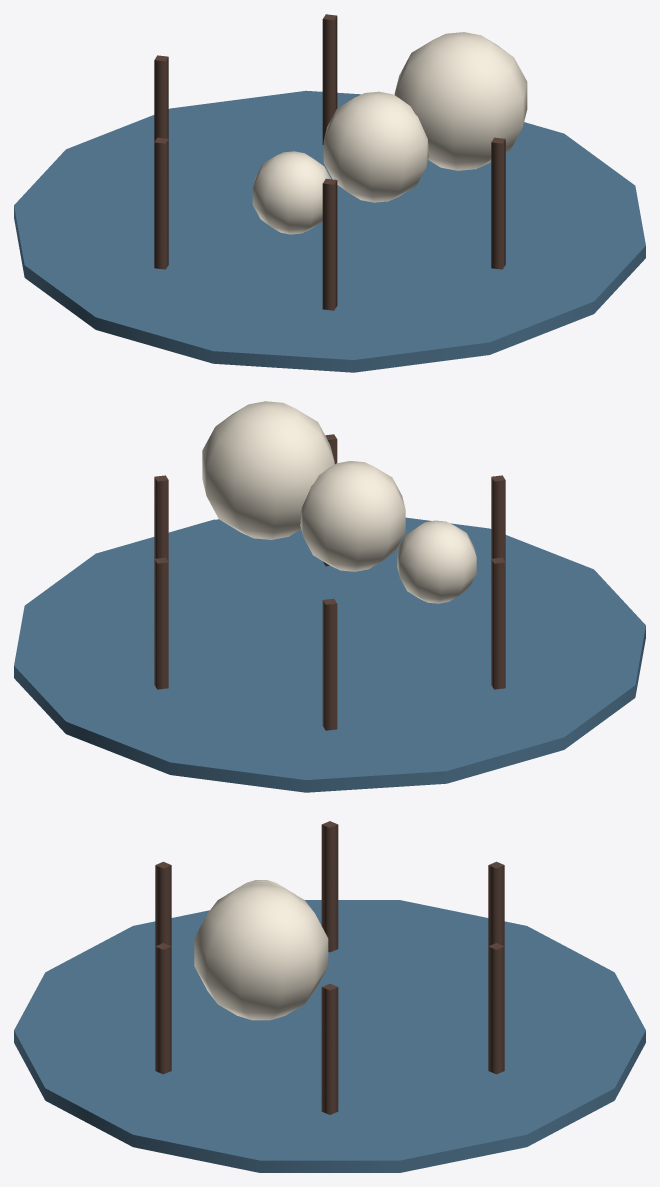
Rendered from feature_mire.glb.
3 views of the same model, one above another, from view 1: azimuth 30°, elevation 25°; view 2: azimuth 150°, elevation 25°; view 3: azimuth 270°, elevation 25° (orthographic).
Visible parts, largest first — view 1: _MeshInstance3D_275, _MeshInstance3D_284, _MeshInstance3D_283, _MeshInstance3D_282, _MeshInstance3D_278, _MeshInstance3D_277, _MeshInstance3D_279, _MeshInstance3D_281, _MeshInstance3D_280; view 2: _MeshInstance3D_275, _MeshInstance3D_284, _MeshInstance3D_283, _MeshInstance3D_282, _MeshInstance3D_280, _MeshInstance3D_281, _MeshInstance3D_279, _MeshInstance3D_278, _MeshInstance3D_276; view 3: _MeshInstance3D_275, _MeshInstance3D_284, _MeshInstance3D_276, _MeshInstance3D_277, _MeshInstance3D_281, _MeshInstance3D_279, _MeshInstance3D_278, _MeshInstance3D_280.
Boxes of the visible parts, left/top/right/bottom form: _MeshInstance3D_275: left=14, top=90, right=645, bottom=372; _MeshInstance3D_284: left=394, top=32, right=527, bottom=170; _MeshInstance3D_283: left=323, top=91, right=428, bottom=202; _MeshInstance3D_282: left=252, top=151, right=330, bottom=234; _MeshInstance3D_278: left=322, top=178, right=337, bottom=310; _MeshInstance3D_277: left=491, top=137, right=505, bottom=269; _MeshInstance3D_279: left=154, top=137, right=168, bottom=269; _MeshInstance3D_281: left=322, top=14, right=337, bottom=144; _MeshInstance3D_280: left=154, top=55, right=168, bottom=141; _MeshInstance3D_275: left=14, top=517, right=645, bottom=792; _MeshInstance3D_284: left=202, top=401, right=334, bottom=539; _MeshInstance3D_283: left=300, top=461, right=405, bottom=571; _MeshInstance3D_282: left=397, top=520, right=476, bottom=603; _MeshInstance3D_280: left=322, top=598, right=337, bottom=730; _MeshInstance3D_281: left=154, top=557, right=168, bottom=689; _MeshInstance3D_279: left=491, top=557, right=505, bottom=689; _MeshInstance3D_278: left=491, top=475, right=505, bottom=561; _MeshInstance3D_276: left=154, top=475, right=168, bottom=561; _MeshInstance3D_275: left=14, top=900, right=645, bottom=1172; _MeshInstance3D_284: left=194, top=884, right=328, bottom=1020; _MeshInstance3D_276: left=321, top=983, right=338, bottom=1114; _MeshInstance3D_277: left=155, top=943, right=171, bottom=1074; _MeshInstance3D_281: left=488, top=943, right=504, bottom=1074; _MeshInstance3D_279: left=321, top=821, right=338, bottom=952; _MeshInstance3D_278: left=155, top=861, right=171, bottom=946; _MeshInstance3D_280: left=488, top=861, right=504, bottom=946.
Bounding box in the file's own units: 0.8969 × 0.32 × 0.92.
